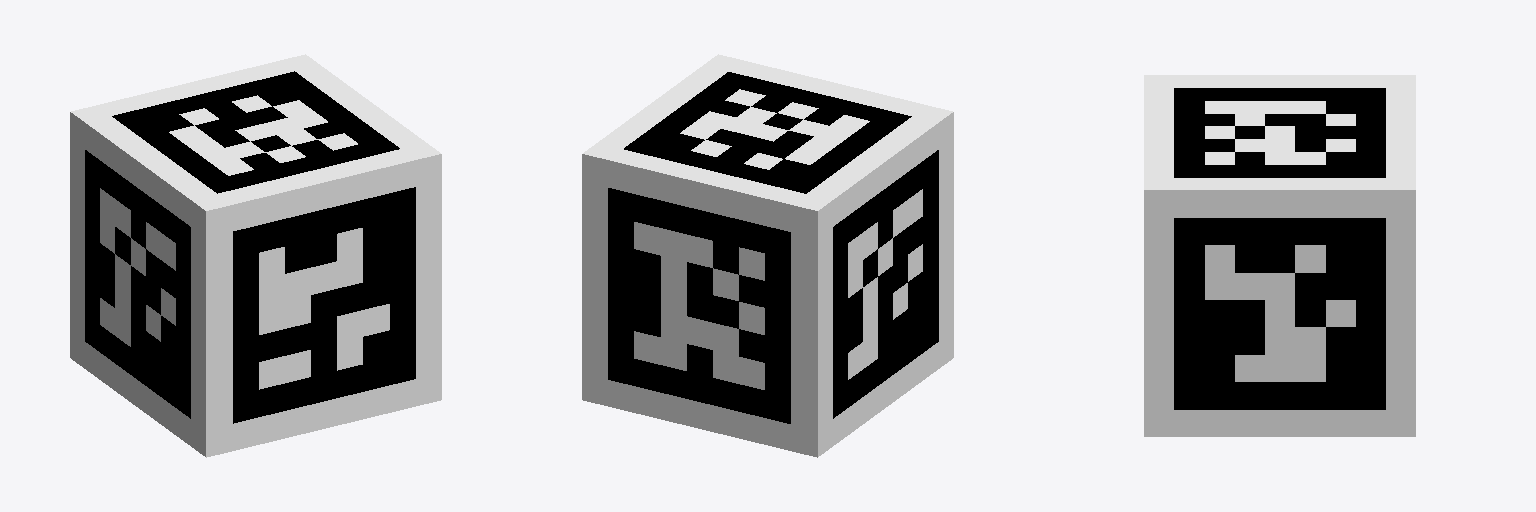
The picture shows the model from 3 angles: view 1: azimuth 30°, elevation 25°; view 2: azimuth 150°, elevation 25°; view 3: azimuth 270°, elevation 25°; orthographic projection.
Bounding box in the file's own units: 0.4 × 0.4 × 0.4.
1 materials, 1 textured.